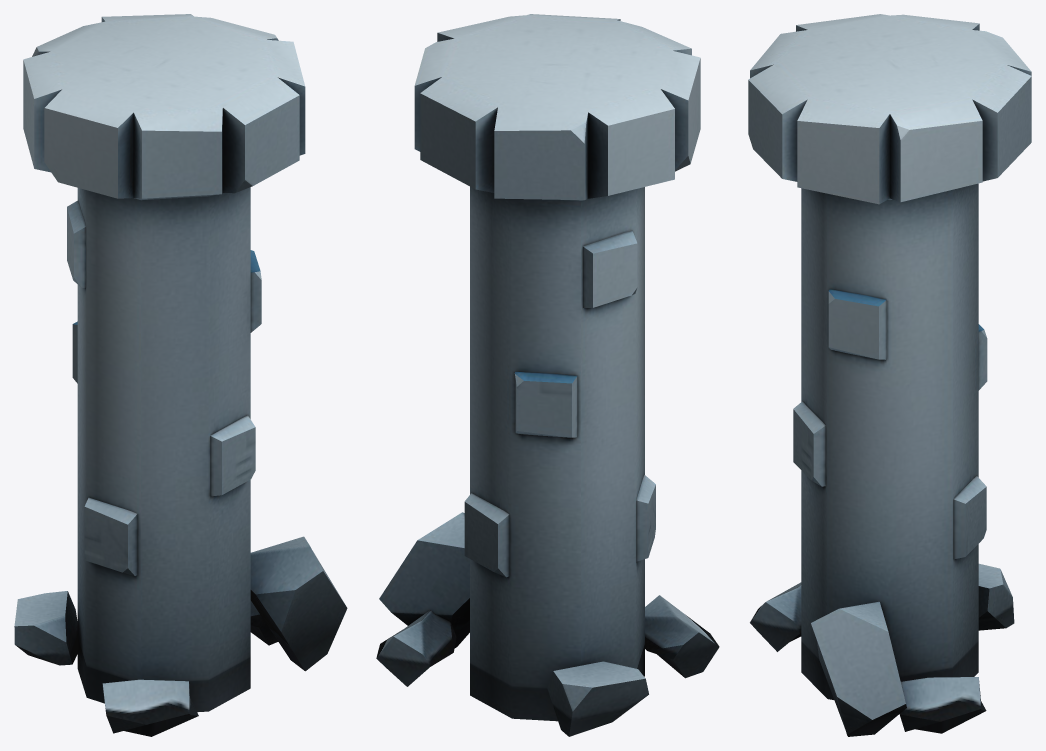
The model's file is PS_Cartoon_Tower02.FBX.
3 views of the same model, side by side, from view 1: azimuth 30°, elevation 25°; view 2: azimuth 150°, elevation 25°; view 3: azimuth 270°, elevation 25° (orthographic). The views are drawn at different scales.
Parts seen in each view (by area): view 1: Tower001; view 2: Tower001; view 3: Tower001.
Boxes of the visible parts, x1=… form: Tower001: x1=14, y1=14, x2=347, y2=736; Tower001: x1=376, y1=14, x2=719, y2=736; Tower001: x1=748, y1=14, x2=1031, y2=736.
Size of the model in its own units: 68.71 by 138 by 57.8.
